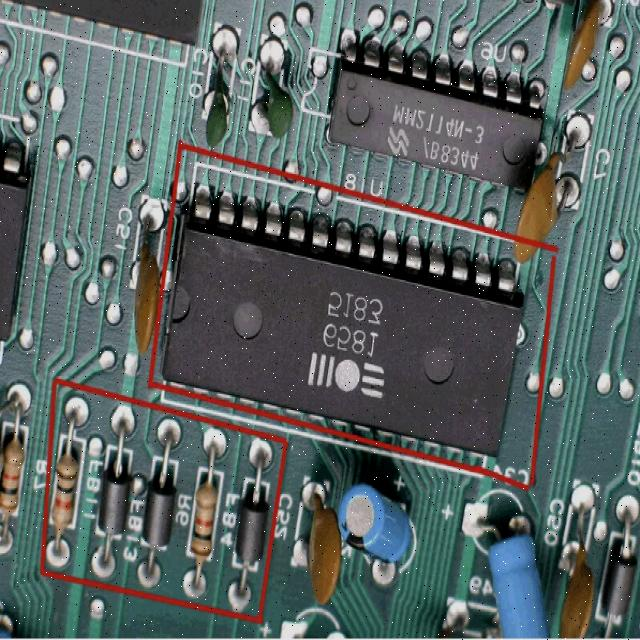Electrolytic capacitor: (478, 511, 554, 640), (335, 482, 417, 574)
IC: (160, 207, 512, 420), (320, 51, 546, 192), (294, 476, 338, 608)
resistor: (48, 436, 80, 538), (189, 474, 216, 564)
